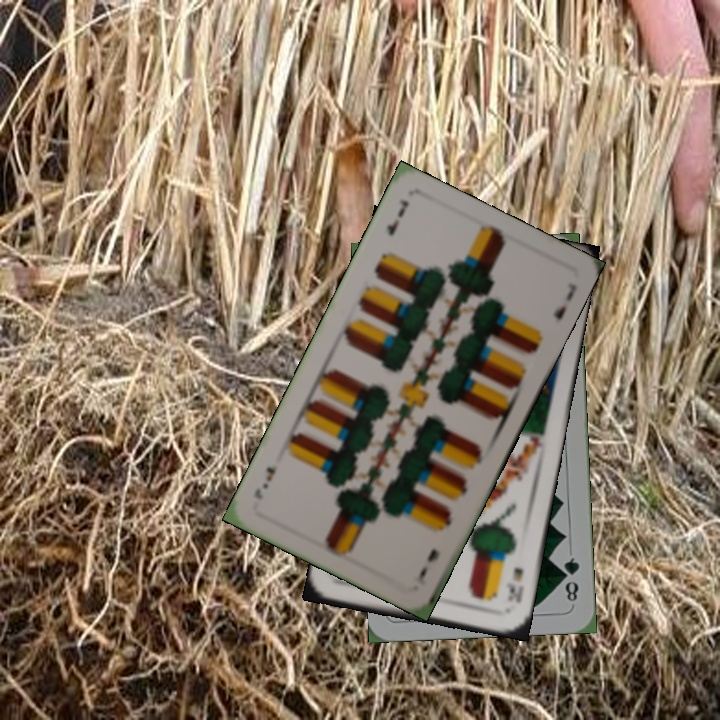E7: (413, 544, 442, 588), (382, 195, 411, 239)
EK: (502, 563, 526, 606)
G8: (559, 553, 582, 604)
